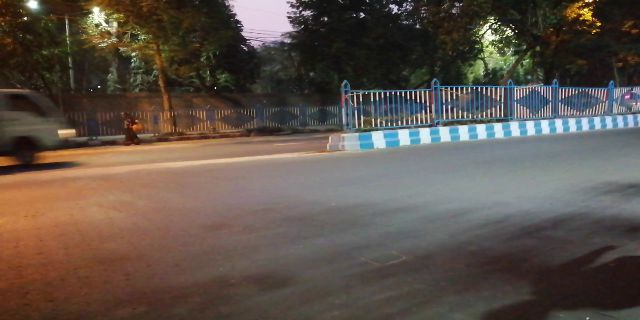Minitruck: (5, 87, 78, 160)
